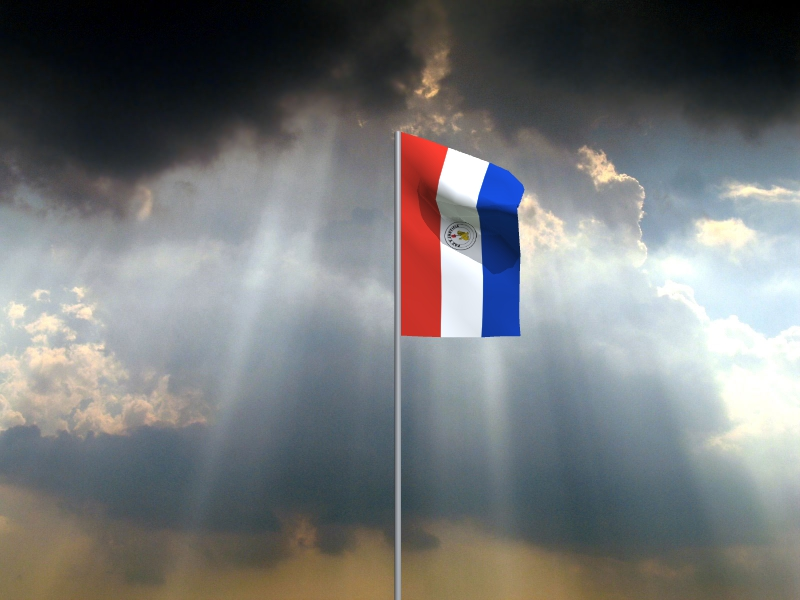py: (400, 133, 526, 338)
